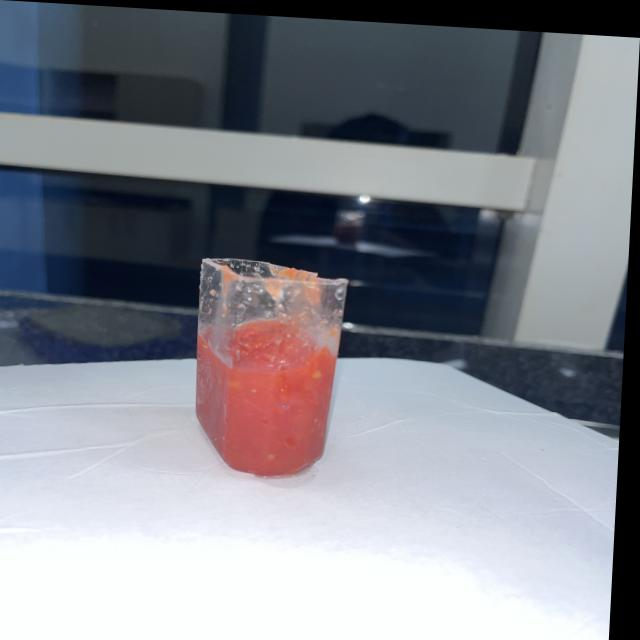blended_tomatoes_pepper: (195, 310, 344, 475)
